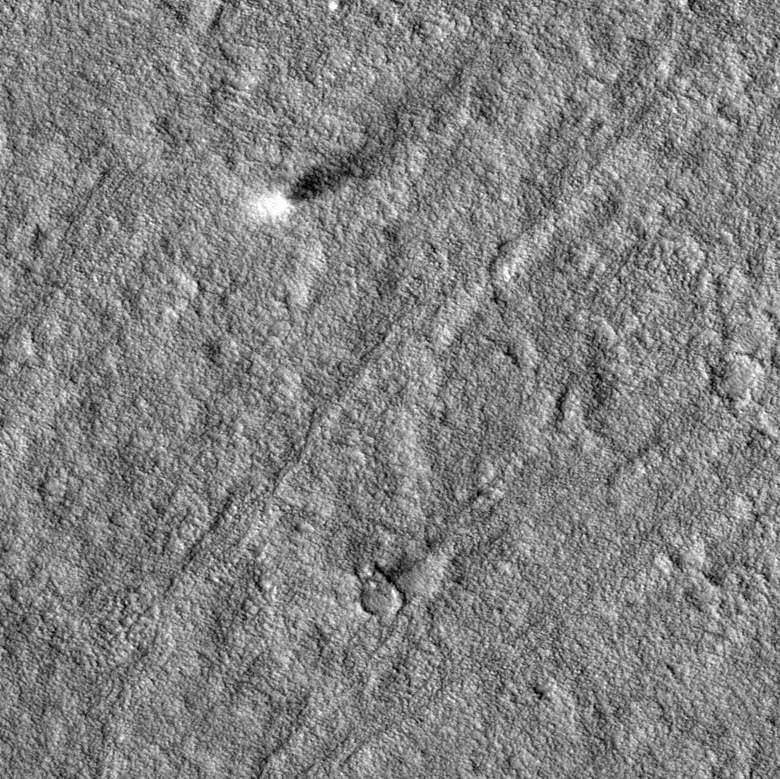dust_devil: (251, 133, 396, 227)
